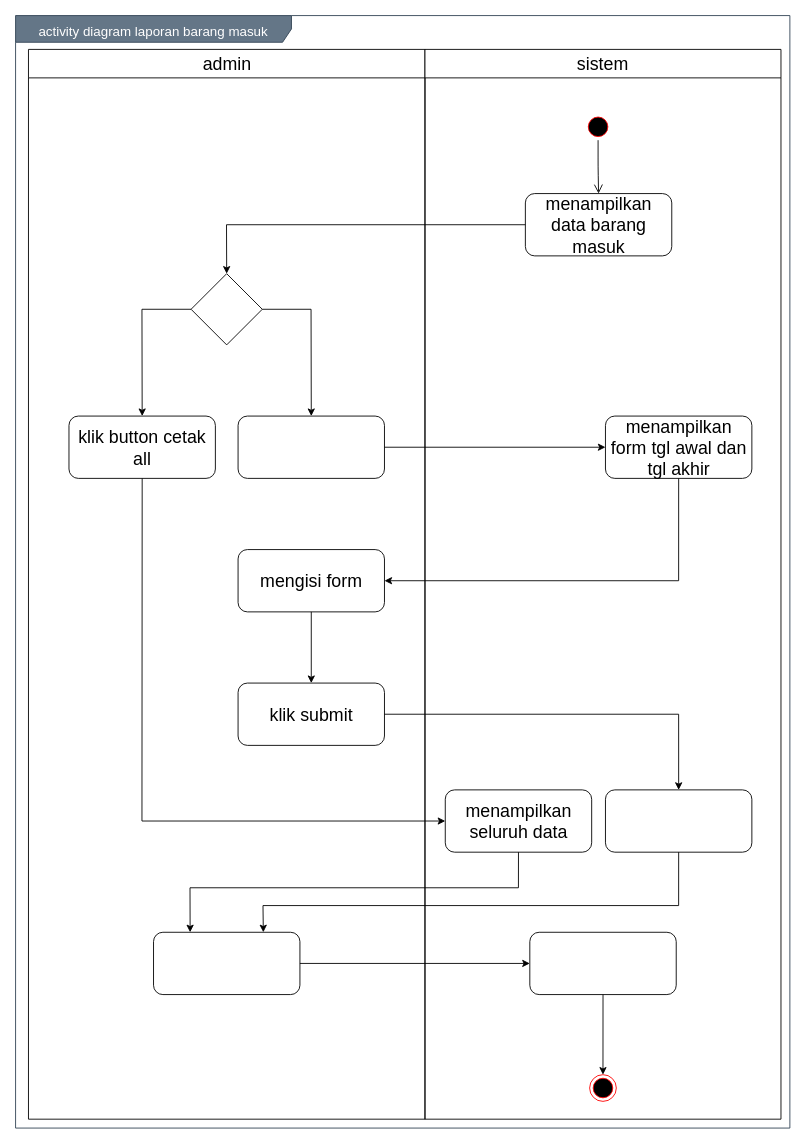
Some shapes in this 805 by 1144 pixel diagram are drawn without their labels. The box of each missing label's shape, as (x1, y1, x2, y2) in pixels:
data tersimpan dalam device: (529, 931, 676, 995)
klik button cetak pertanggal: (237, 415, 384, 478)
klik save: (153, 931, 300, 995)
menampilkan data berdasarkan range tanggal: (605, 789, 752, 852)
